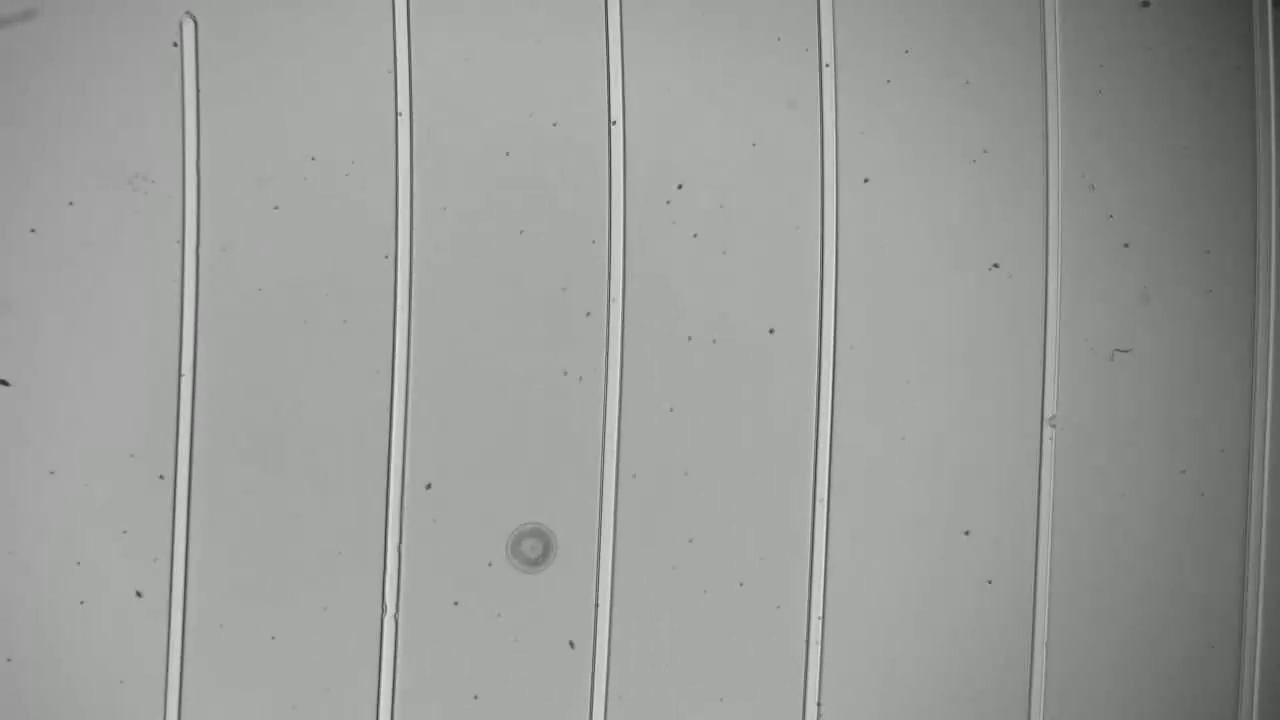edge_bite: (373, 590, 411, 631), (1033, 406, 1064, 438)
